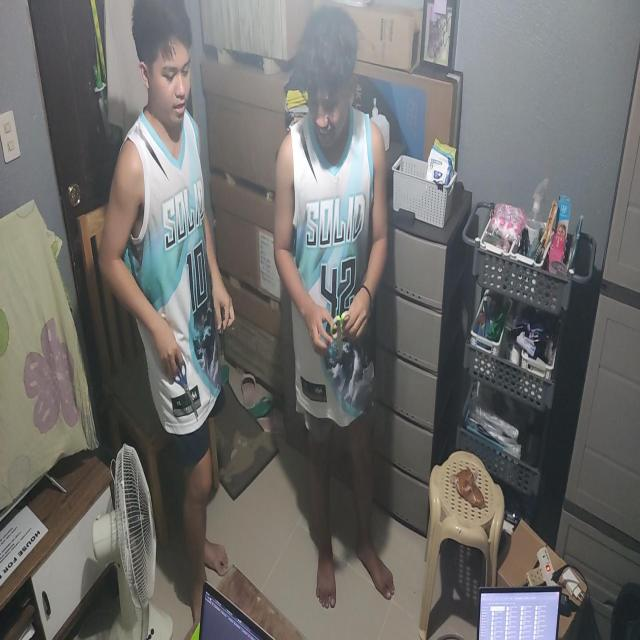scissor: (170, 358, 198, 418), (330, 310, 351, 363)
